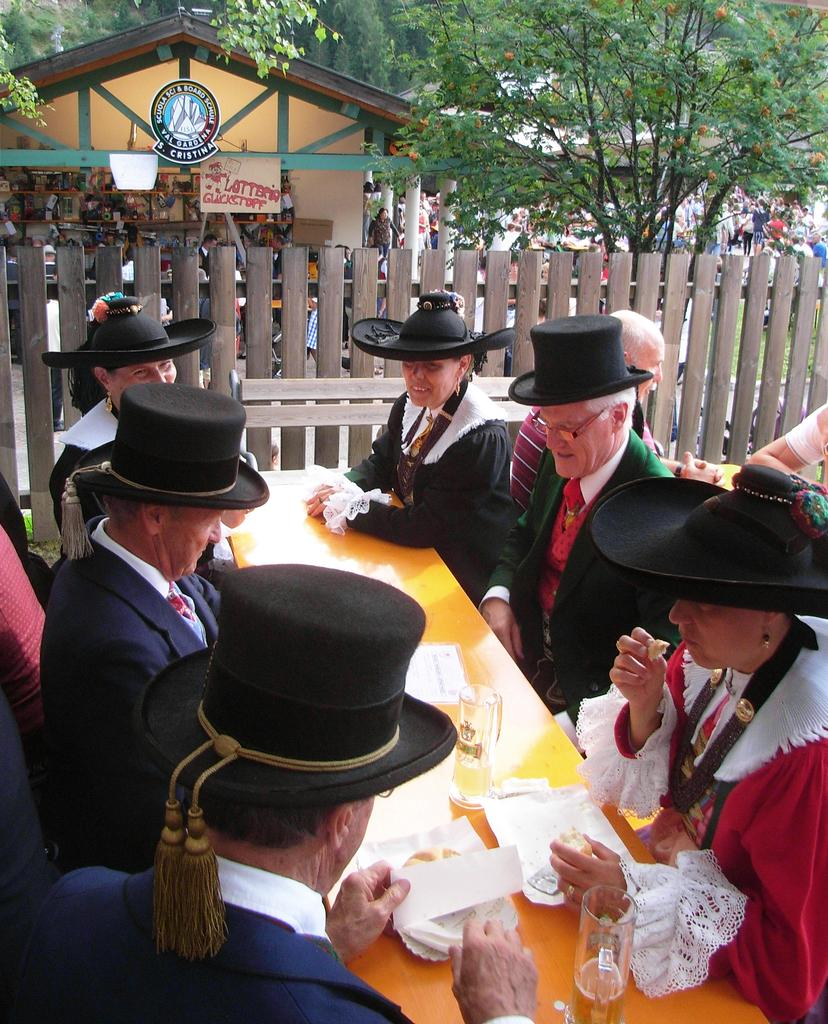Hat: (134, 560, 460, 954), (583, 460, 827, 616), (58, 380, 268, 556), (36, 294, 218, 372), (504, 312, 652, 407), (350, 288, 512, 362)
